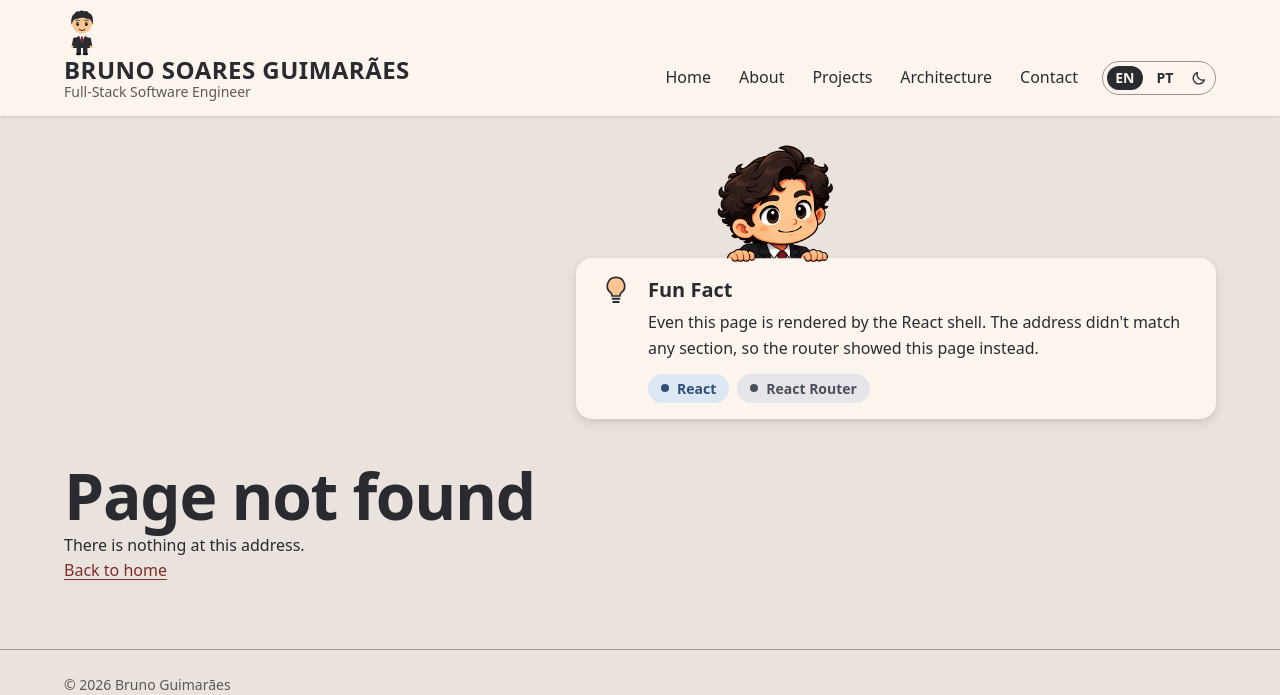
Test case: page transitions › crossfades the 404 home link
This screenshot has width=1280, height=695.
Check: the heading "Page not found" is shown, box [64,452,535,539]
Click the link "Back to home" at (115, 570), box [64,559,167,581]
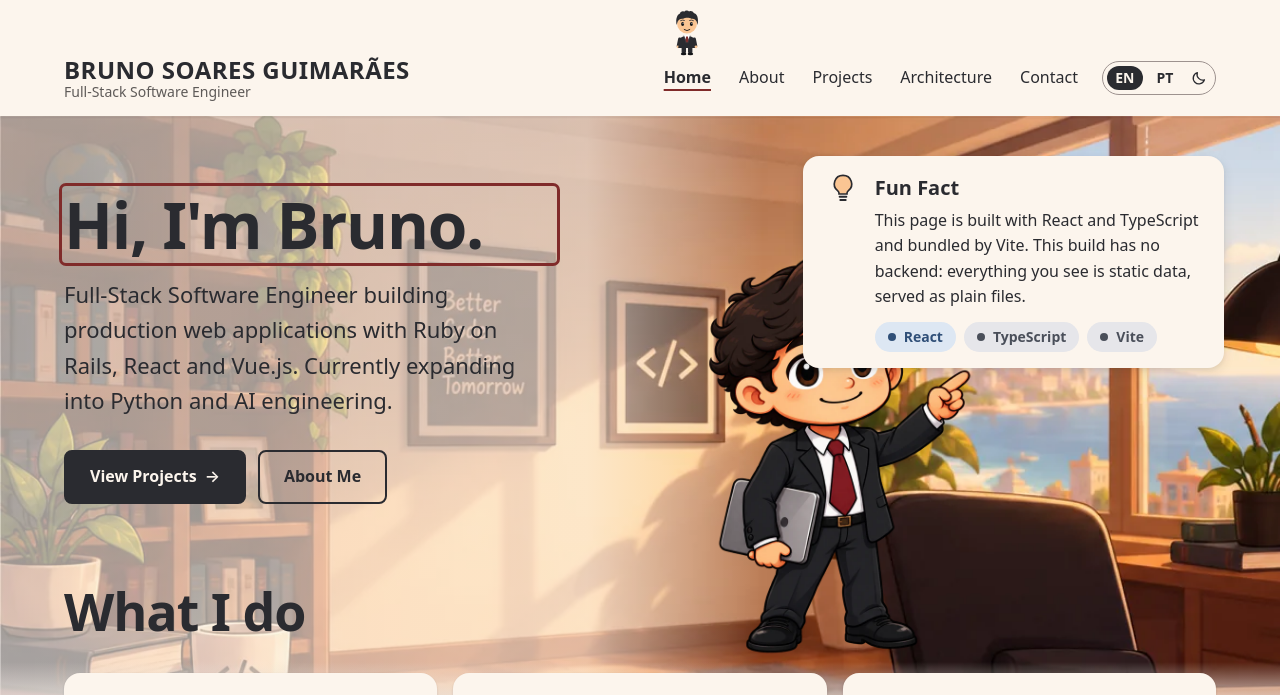
Check: the heading "Hi, I'm Bruno." is shown, box [64,188,555,261]
